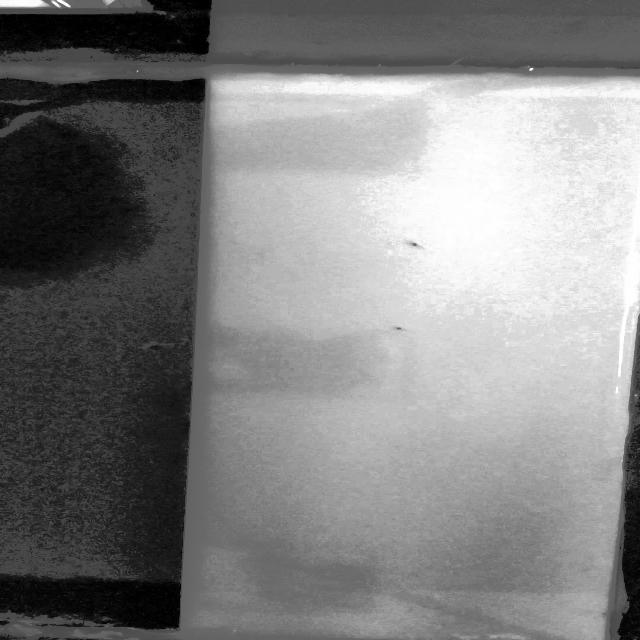shrimp: (399, 234, 440, 252), (385, 322, 425, 336)
